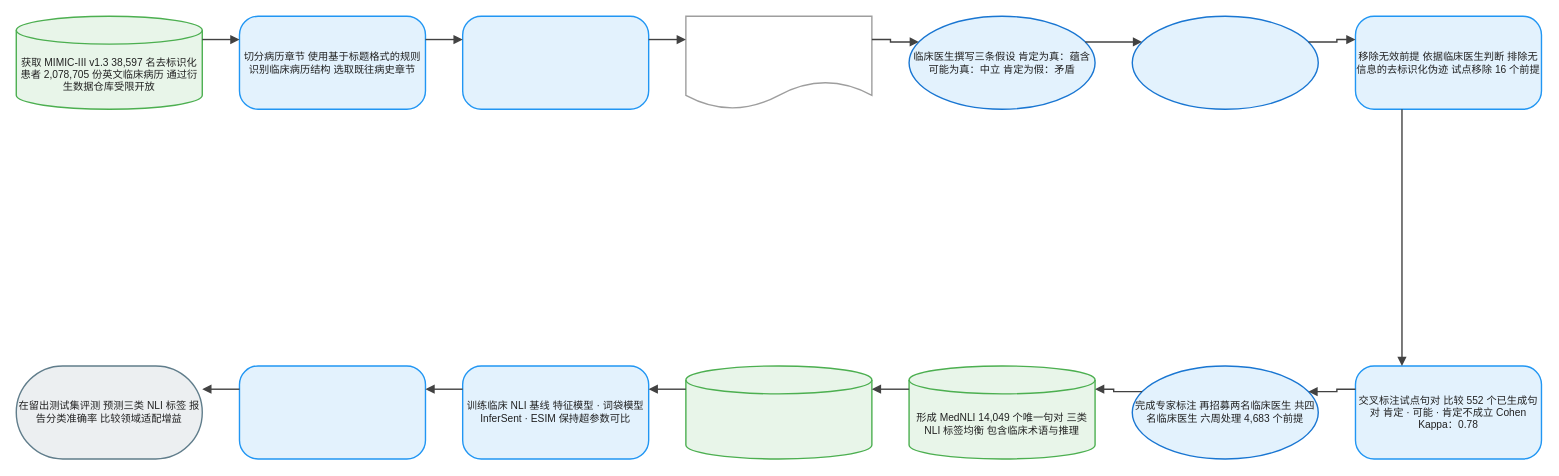
The diagram is 1559 pixels wide and 476 high, and some of its shapes have lost their labels. The centre of each missing label's shape, as x and y in pixels:
仅展示前提句 允许使用医学知识 允许使用常识 不提供病历其他上下文: the point at 778,62
创建候选前提 应用生物医学 LingPipe 分句器 形成候选句池 随机抽取前提句: the point at 555,62
加入迁移与领域知识 从 SNLI 和 MultiNLI 迁移 使用生物医学及 MIMIC 词向量 测试 UMLS 知识增强方法: the point at 332,412
开展标注试点 两名专科认证放射科医生 每人处理 100 个唯一前提 完善临床标注指南: the point at 1225,62
按前提不重叠划分 训练集：11,232 对 开发集：1,395 对 测试集：1,422 对: the point at 778,412
